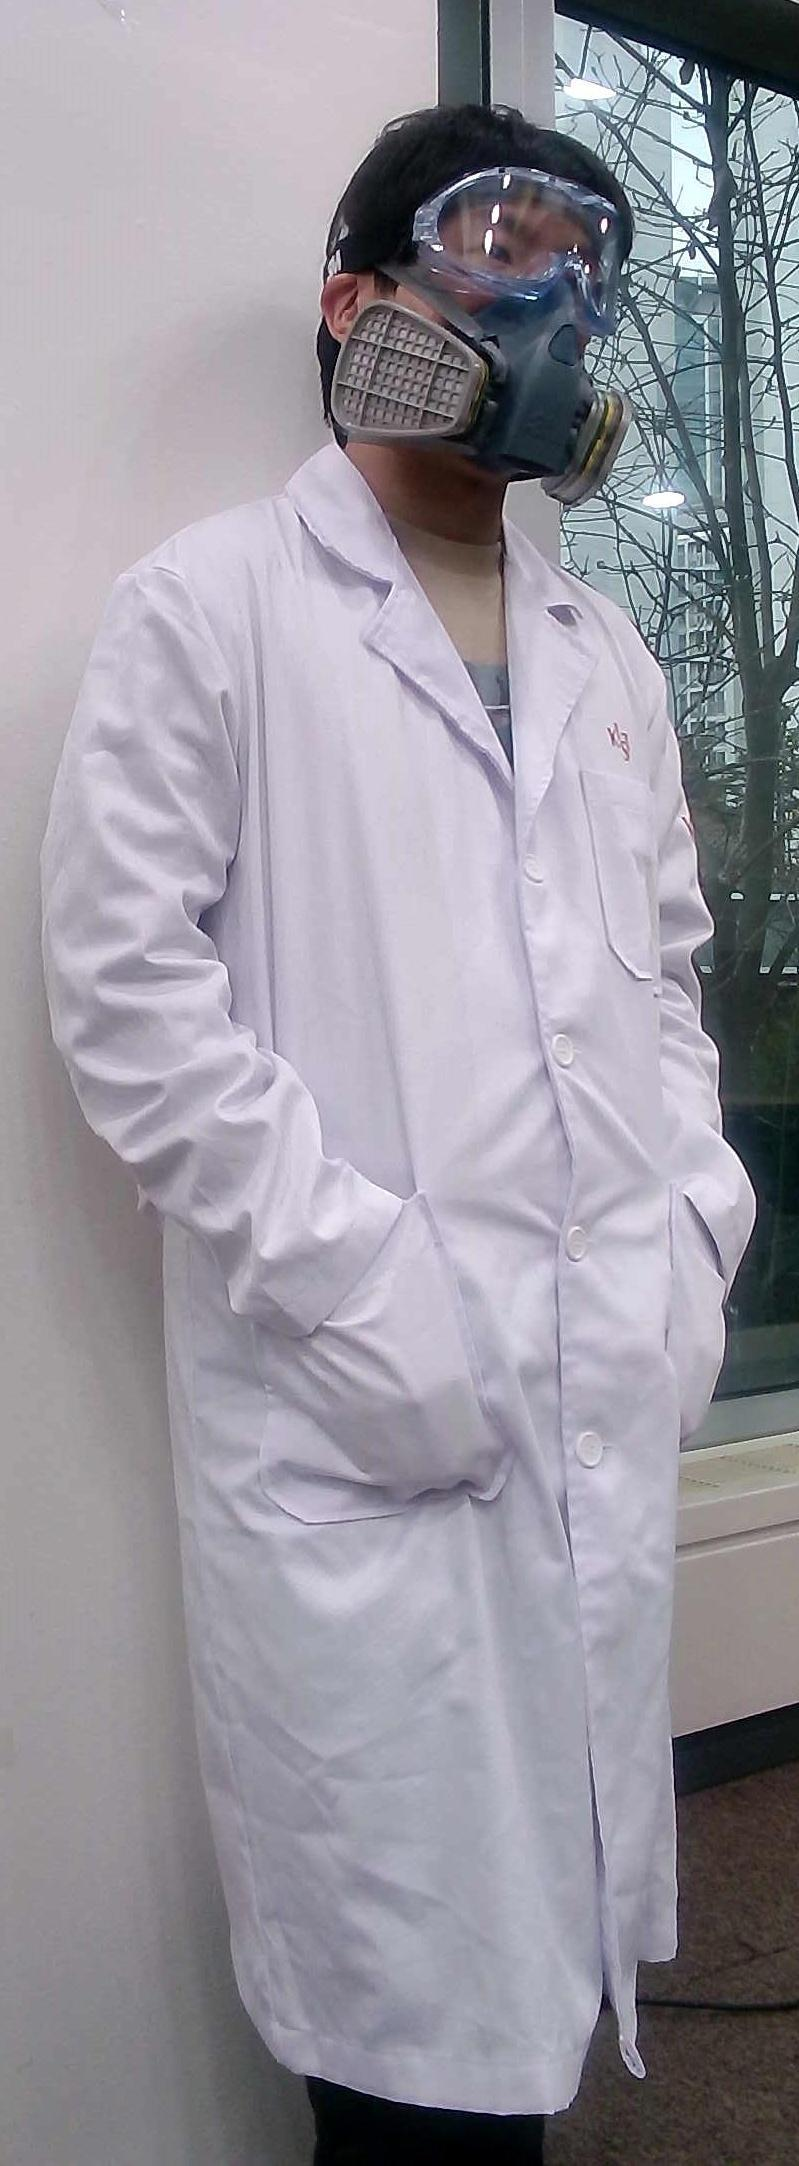lab_coat: (30, 521, 746, 2025)
